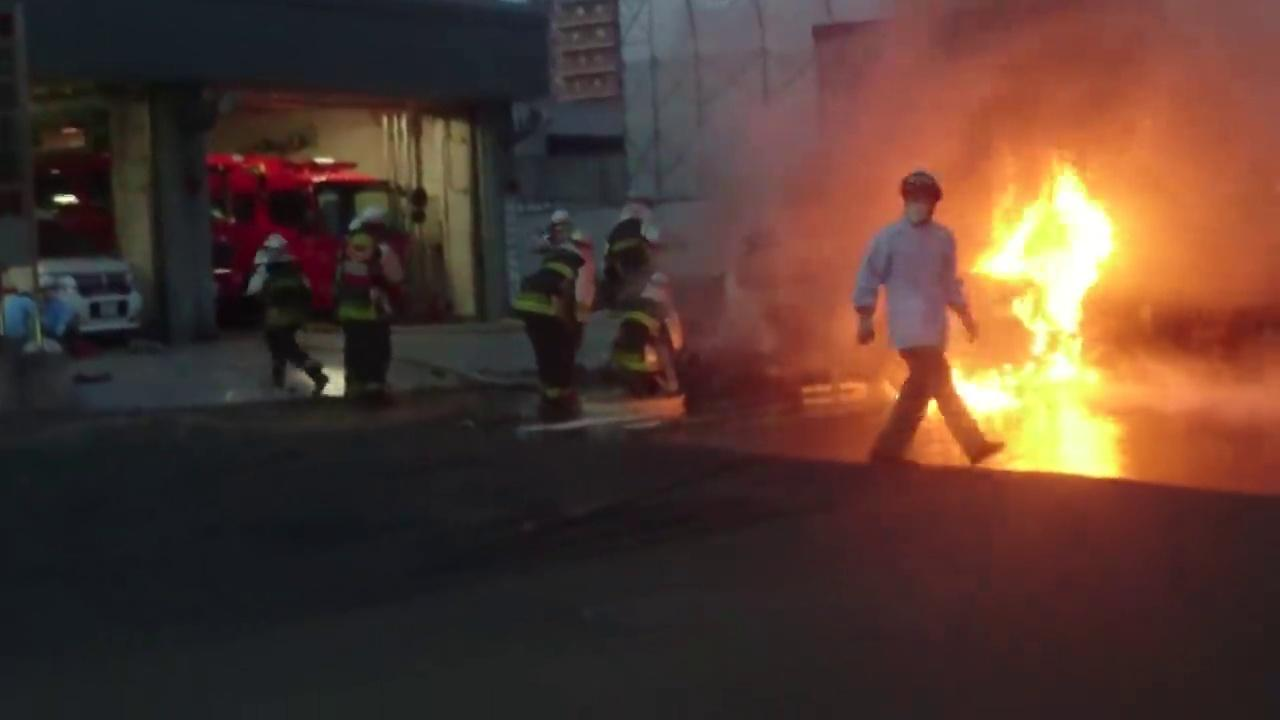fire: (958, 181, 1134, 416)
